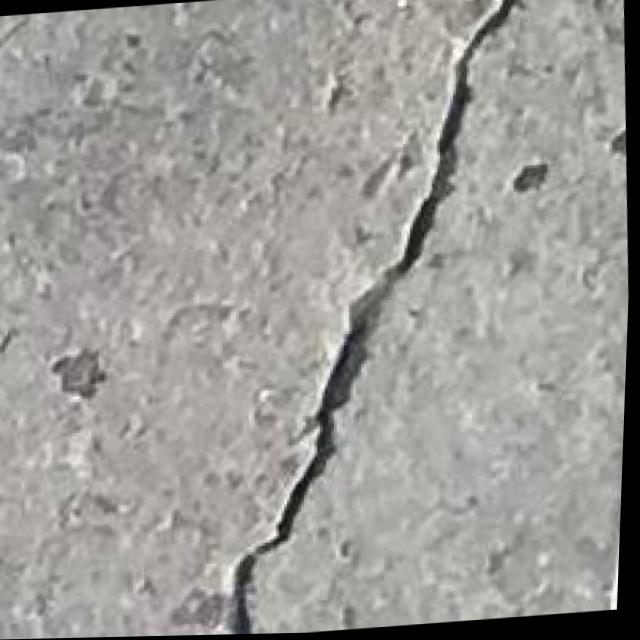Crack: (182, 0, 566, 636)
